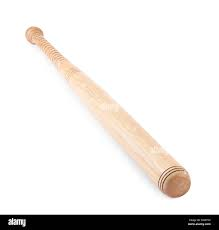baseball bat: (25, 26, 191, 199)
